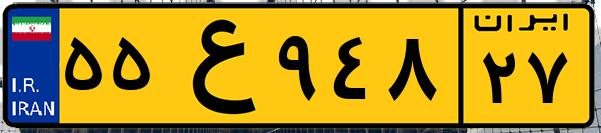2: (475, 38, 525, 113)
4: (330, 28, 385, 110)
5: (57, 26, 110, 100), (110, 28, 158, 98)
7: (525, 38, 570, 115)
8: (385, 28, 445, 110)
9: (270, 28, 330, 110)
ع: (158, 12, 270, 120)
